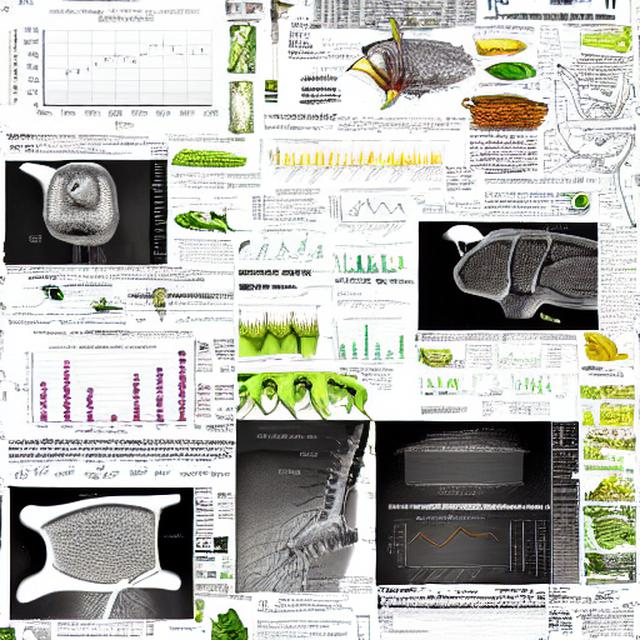Graph: (9, 4, 223, 132), (9, 343, 175, 437), (391, 515, 507, 585), (326, 187, 408, 242), (264, 136, 350, 187), (326, 316, 409, 365), (491, 342, 543, 373)
